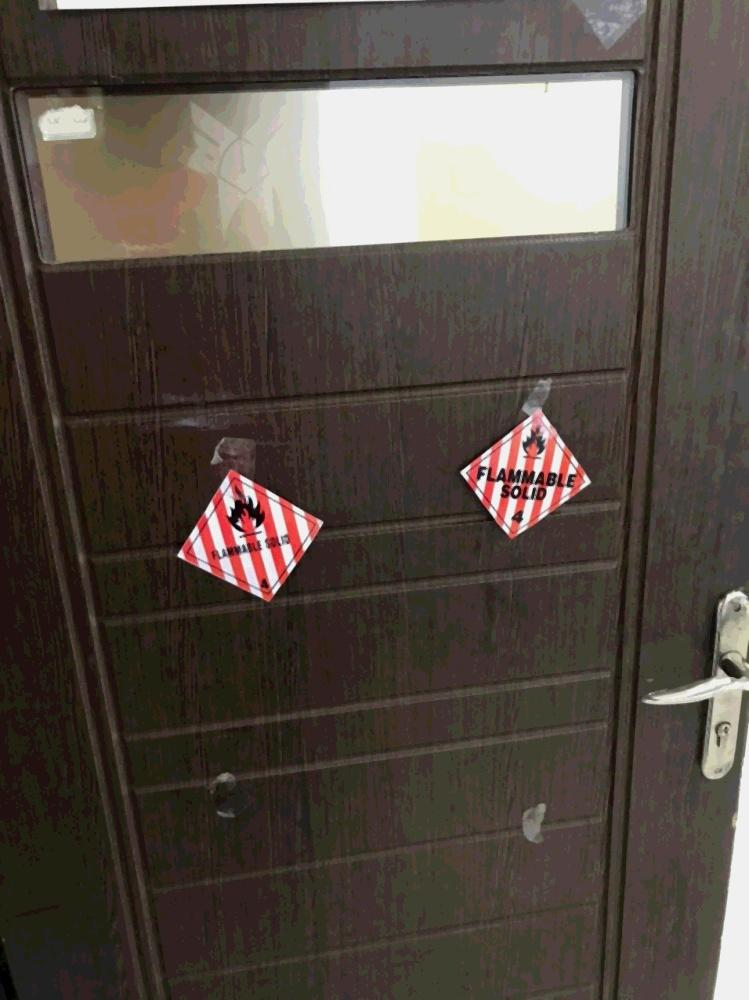flammable-solid: (179, 469, 322, 604), (459, 412, 592, 540)
